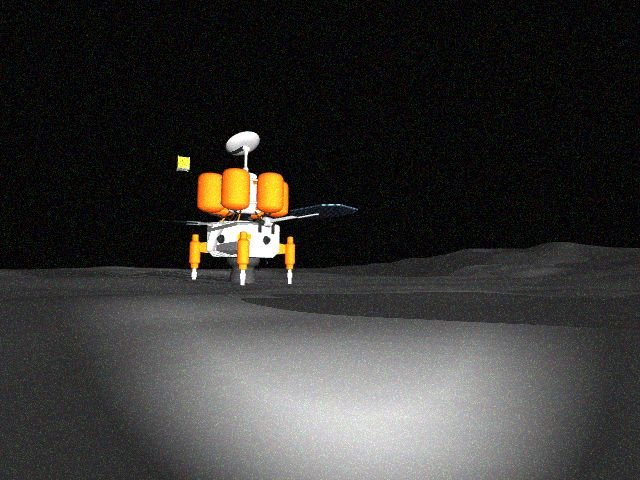cubesat: (174, 152, 192, 174)
